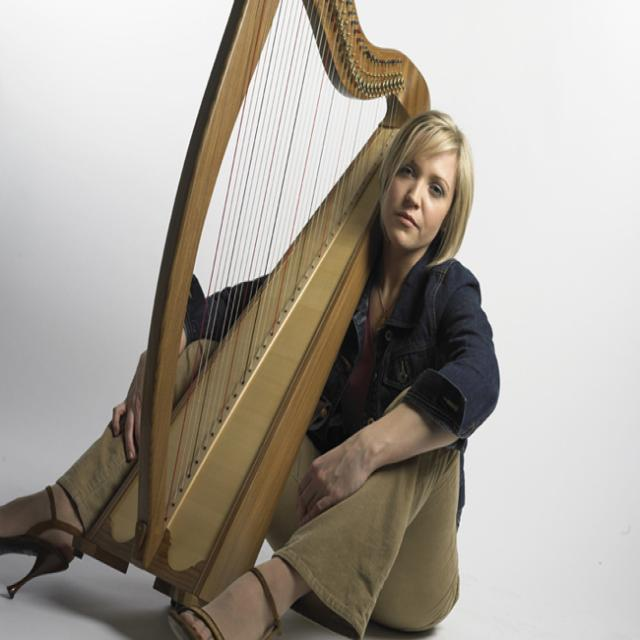harp: (69, 0, 436, 605)
